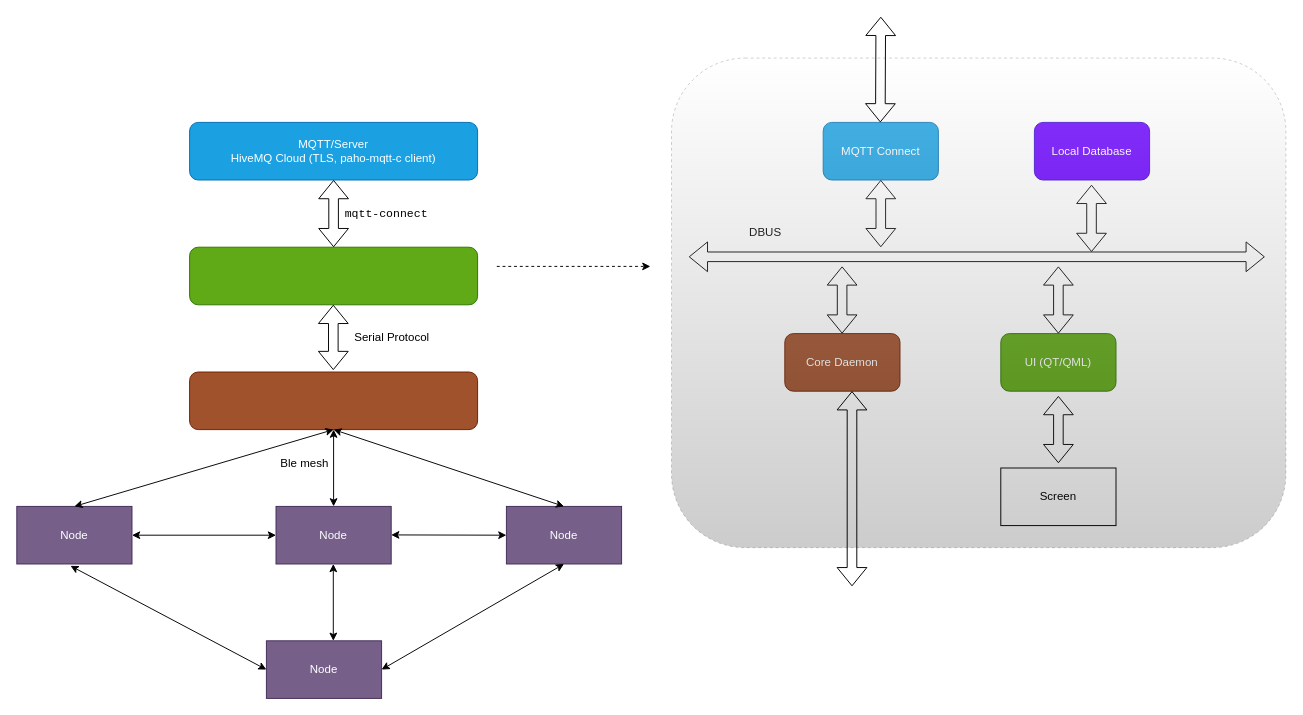
This 1303x715 diagram has some shape labels left out. The shapes that lost their labels are listed below. From the top down, each one's centre as x and y in pixels, then its label:
(333,275): Rasberry pi zeo 2w
(333,400): ESP32 series (provisioner)
